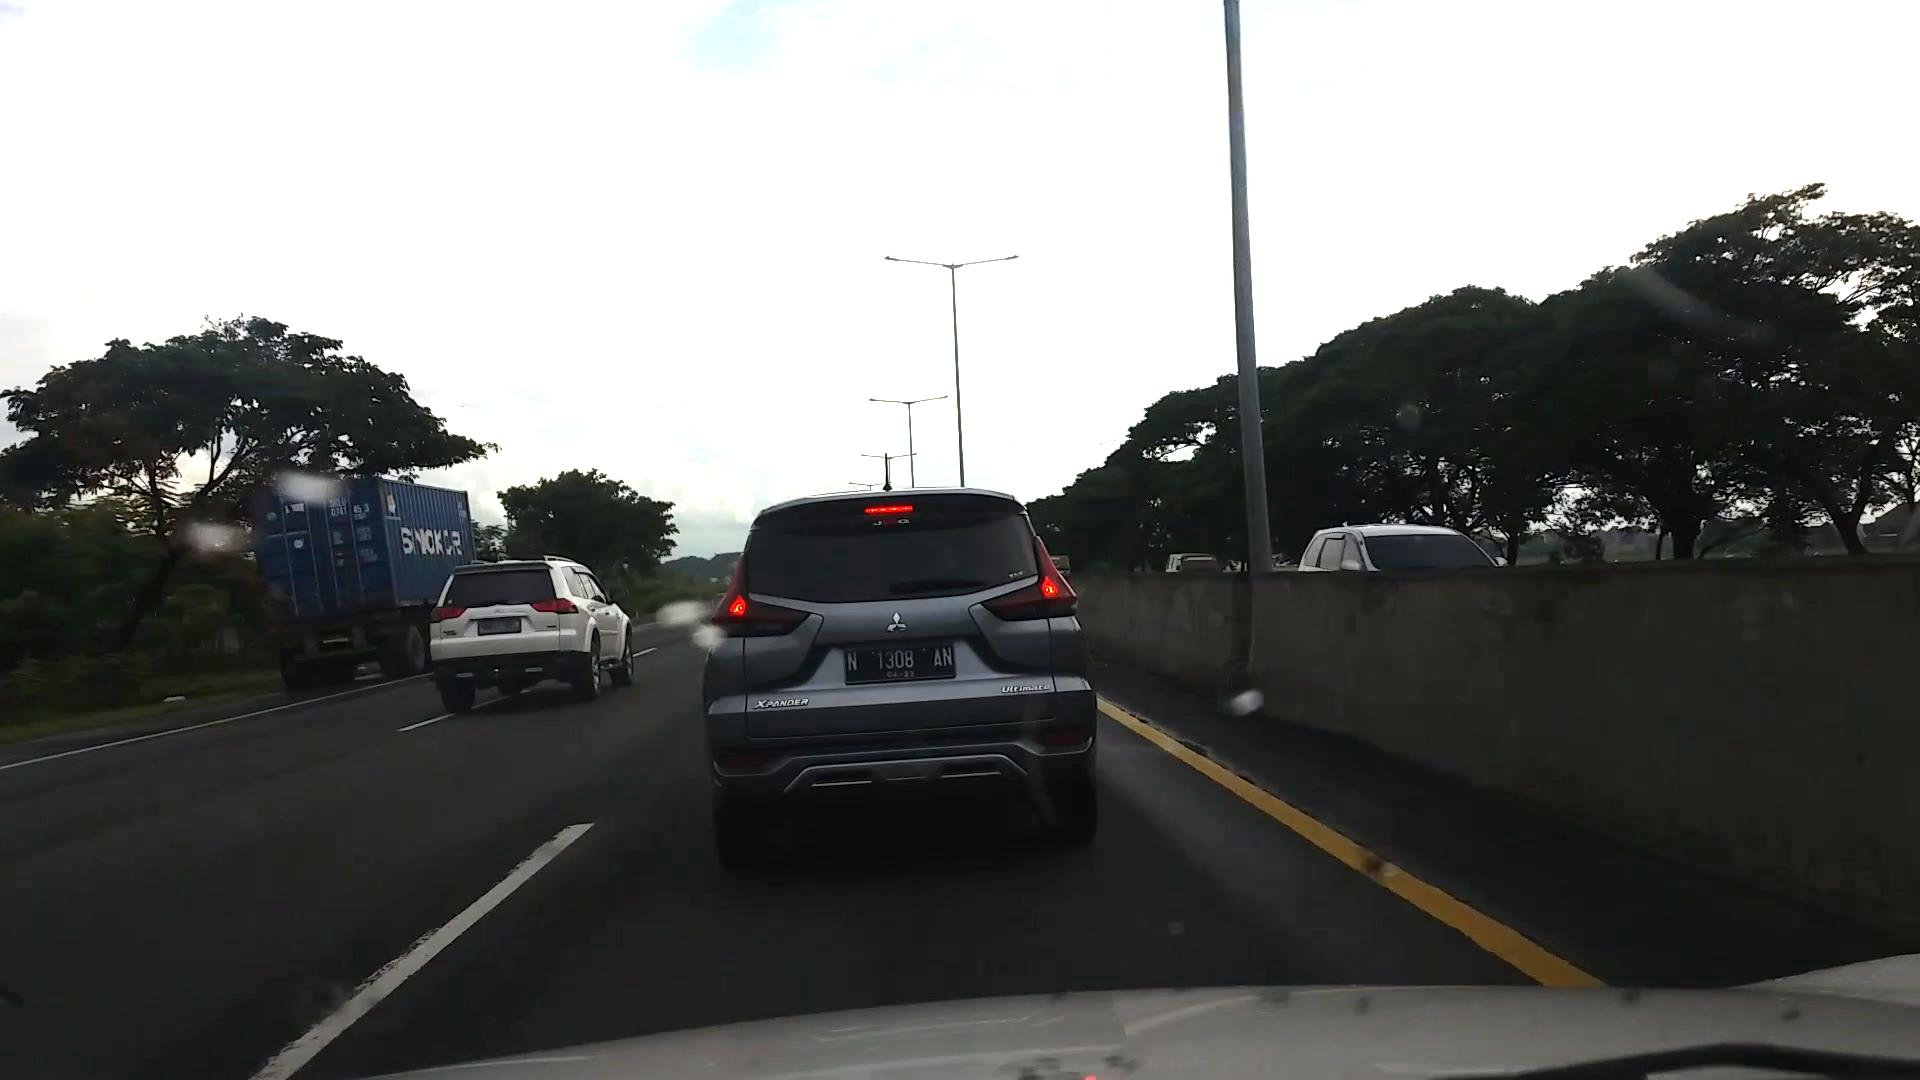plate_positive: (845, 644, 956, 683)
